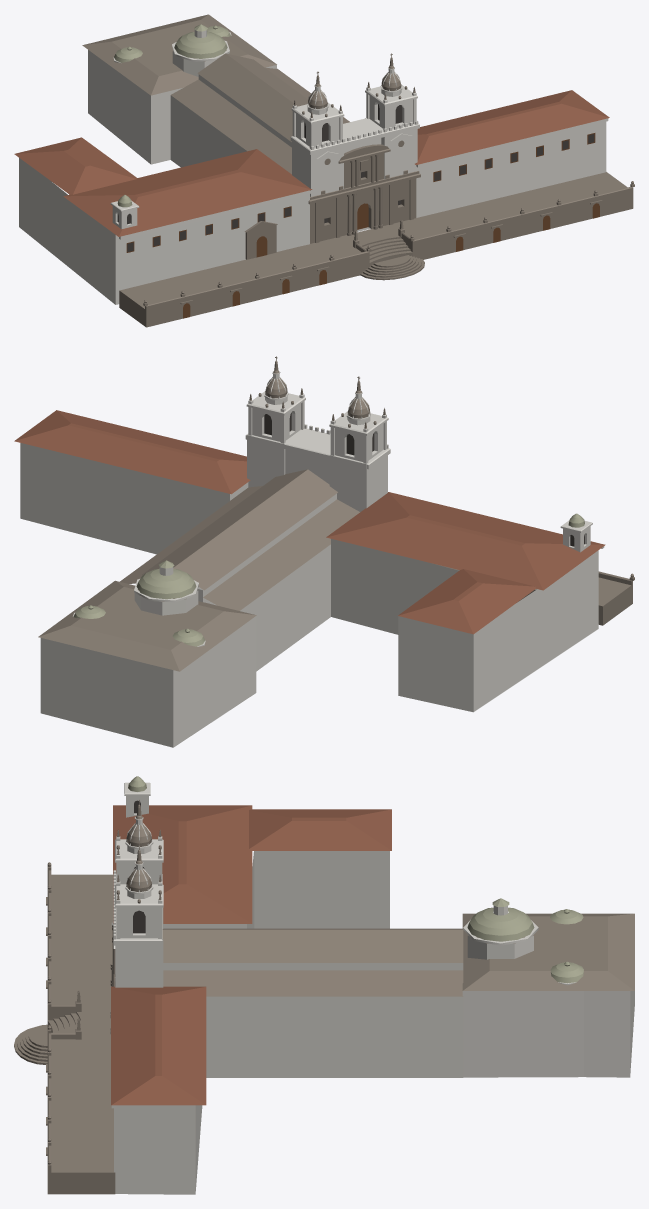
The model's file is quito-san-francisco.glb.
3 renders of one model, top to bottom at view 1: azimuth 30°, elevation 25°; view 2: azimuth 150°, elevation 25°; view 3: azimuth 270°, elevation 25°, orthographic. The views are drawn at different scales.
Parts seen in each view (by area): view 1: Church and Monastery of San Francisco, Quito; view 2: Church and Monastery of San Francisco, Quito; view 3: Church and Monastery of San Francisco, Quito.
Part boxes in pixels (bbox=[...]): Church and Monastery of San Francisco, Quito: bbox=[14, 14, 634, 327]; Church and Monastery of San Francisco, Quito: bbox=[14, 356, 634, 747]; Church and Monastery of San Francisco, Quito: bbox=[14, 776, 634, 1194].
Size of the model in its own units: 119 by 41.25 by 104.
